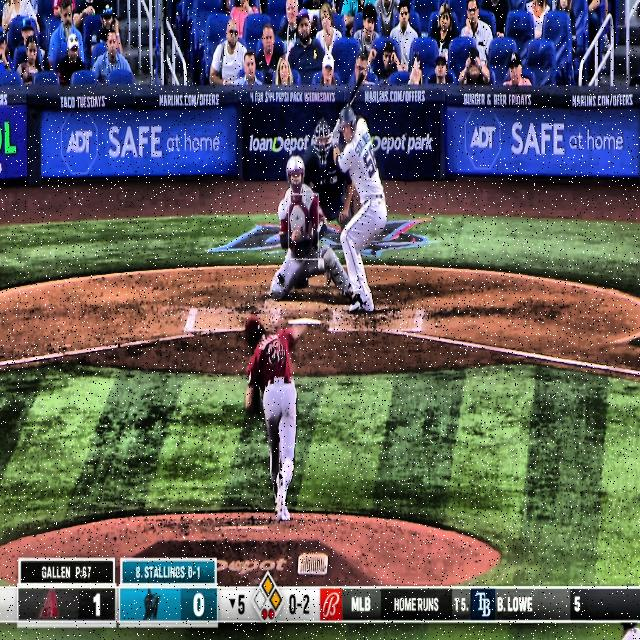baseball: (316, 256, 326, 272)
